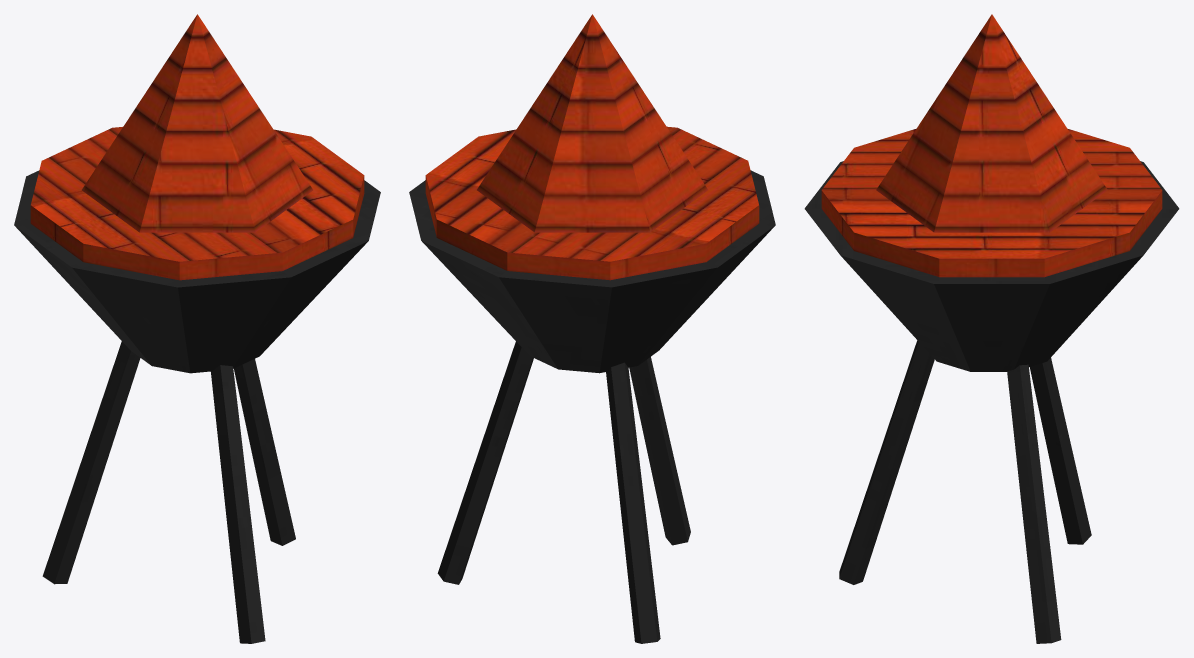
Rendered from brazier_01.glb.
3 renders of one model, left to right at view 1: azimuth 30°, elevation 25°; view 2: azimuth 150°, elevation 25°; view 3: azimuth 270°, elevation 25°, orthographic.
Visible parts, largest first — view 1: brazier_01; view 2: brazier_01; view 3: brazier_01.
Part boxes in pixels (x1=…): brazier_01: x1=14, y1=14, x2=380, y2=643; brazier_01: x1=409, y1=14, x2=775, y2=643; brazier_01: x1=804, y1=14, x2=1179, y2=643.
Size of the model in its own units: 1.05 by 1.86 by 1.1.
2 materials, 2 textured.
